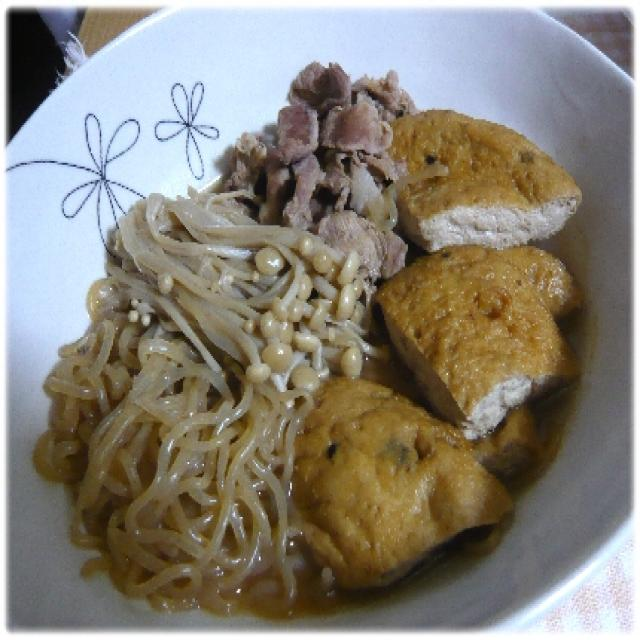熟制海鲜: (250, 85, 601, 606)
